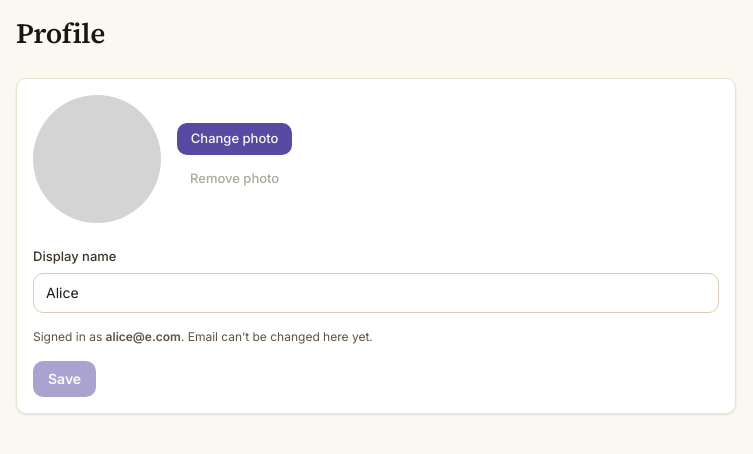
Test: ProfilePage › shows validation error inline on 400
Replace the text in the field named "display name" with "<>" at coordinates (376, 292), box top-left (33, 272), bottom-right (719, 312)
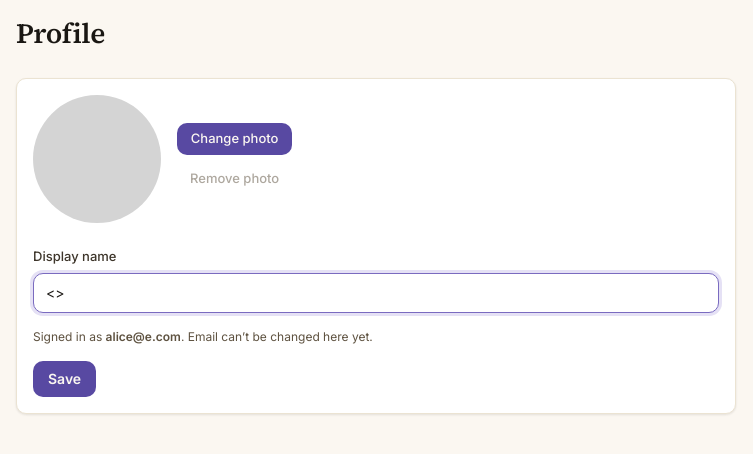
Click the button "Save" at coordinates (65, 378), box top-left (33, 360), bottom-right (96, 396)
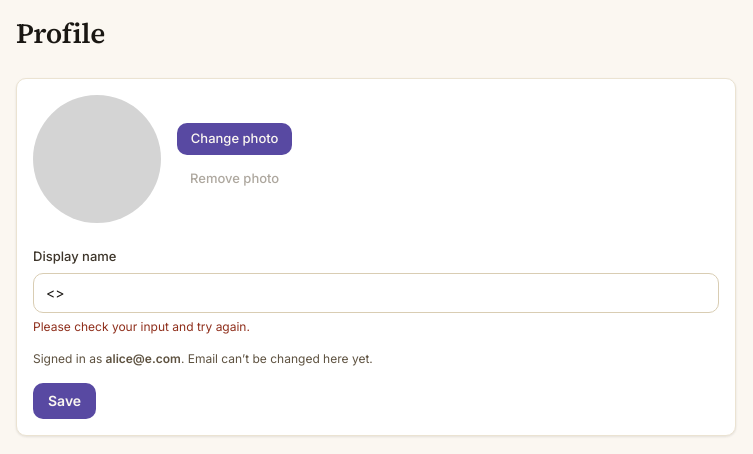
Check: the text "Please check your input and try again." is shown, box top-left (33, 318), bottom-right (250, 334)
